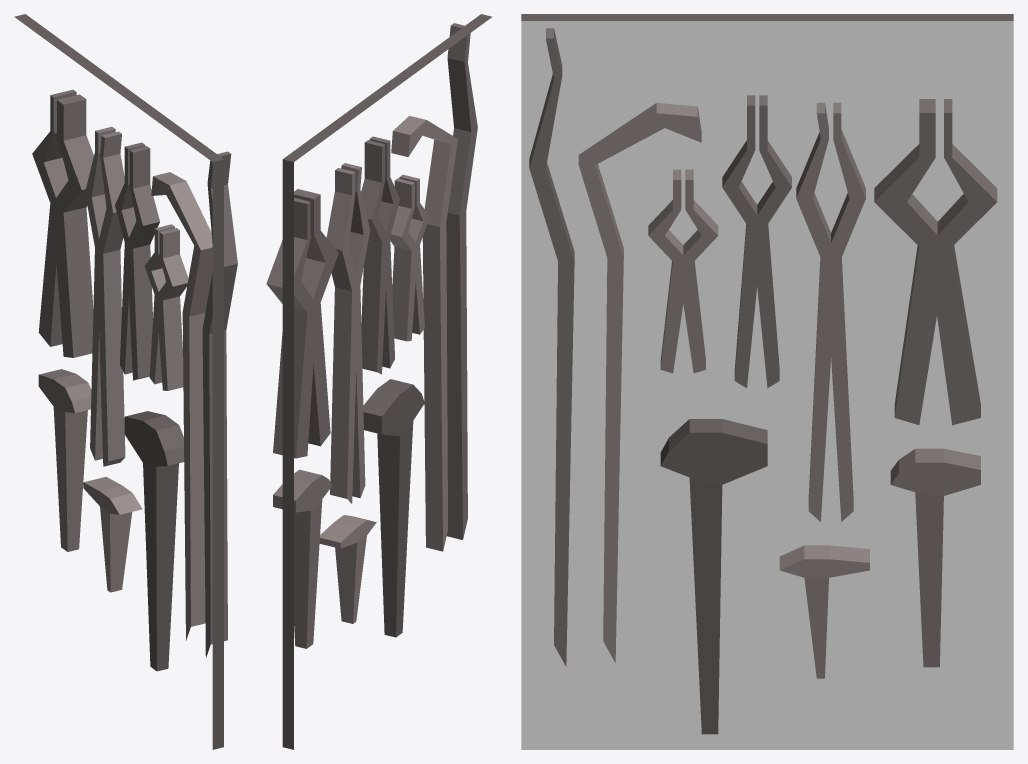
3 renders of one model, left to right at view 1: azimuth 30°, elevation 25°; view 2: azimuth 150°, elevation 25°; view 3: azimuth 270°, elevation 25°, orthographic. The views are drawn at different scales.
Size of the model in its own units: 12 by 196 by 120.
Materials: 1 (1 with a texture image).
